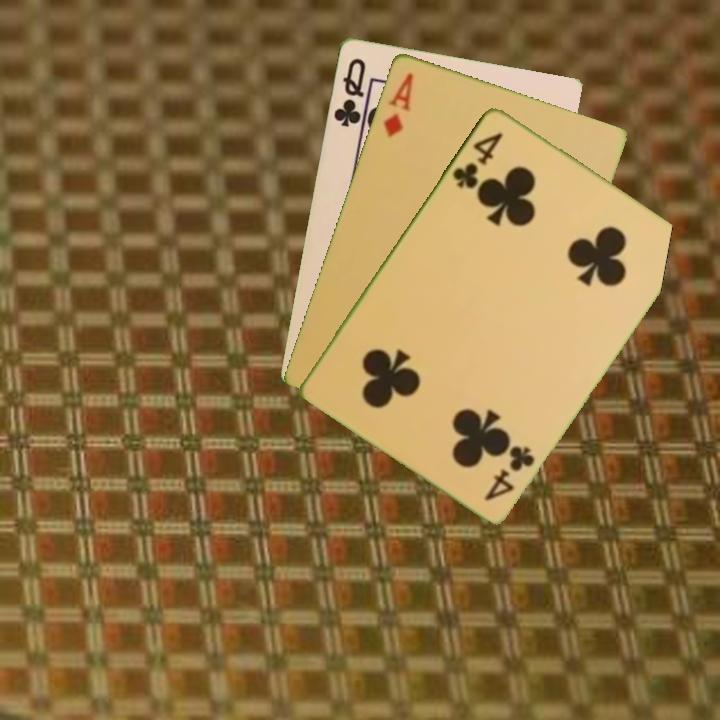4c: (448, 128, 506, 192), (480, 441, 538, 504)
Ad: (379, 68, 416, 140)
Qc: (329, 54, 369, 130)
